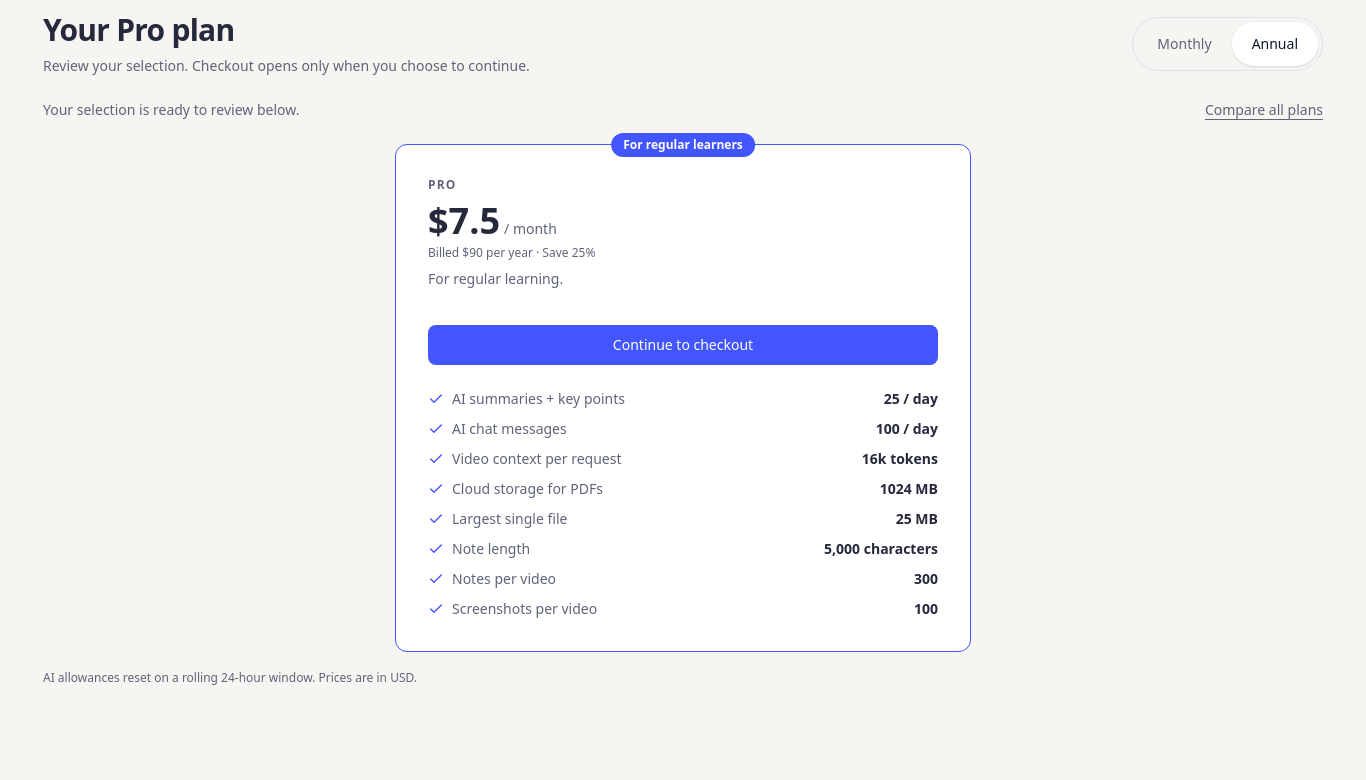
Test: pricing catalogue › shows checkout failures and allows retry while retaining the selected plan
Click the button "Continue to checkout". click: (683, 345)
box: [428, 325, 938, 365]
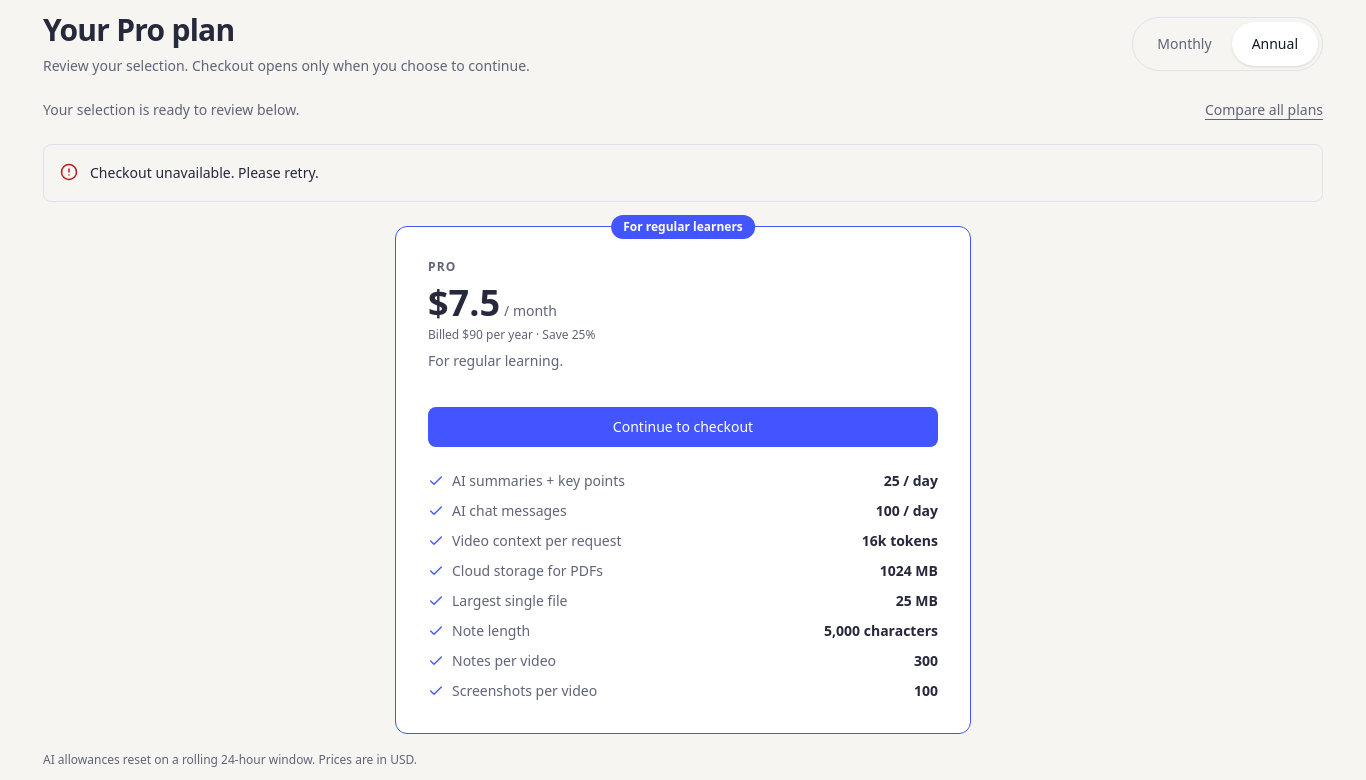
Expected: the button "Continue to checkout" is enabled, [428, 407, 938, 447]
Expected: the message "Checkout unavailable. Please retry." is shown, [43, 144, 1323, 202]
Expected: the text "Checkout unavailable. Please retry." is shown, [90, 163, 319, 182]
